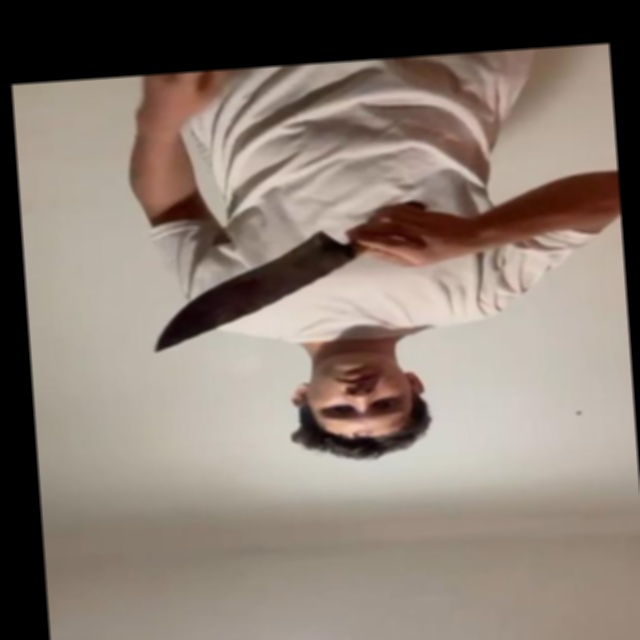Sharp-Object: (145, 230, 358, 352)
